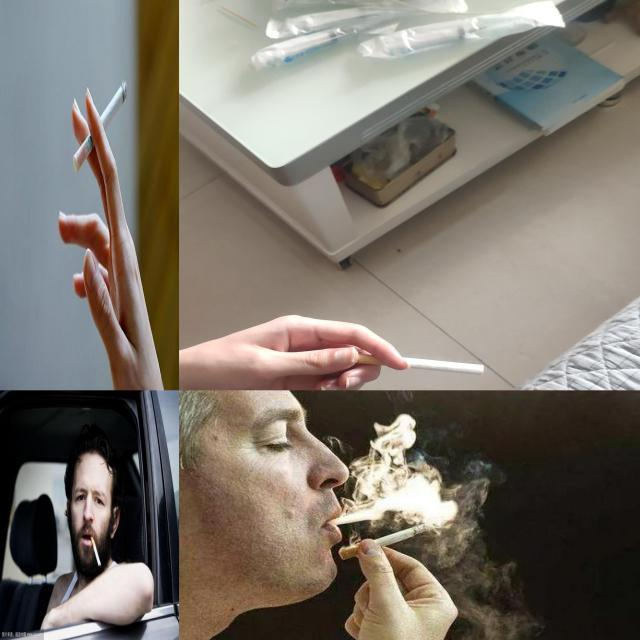smoke: (73, 78, 128, 176), (341, 526, 423, 560), (349, 354, 486, 374), (89, 533, 102, 569)
